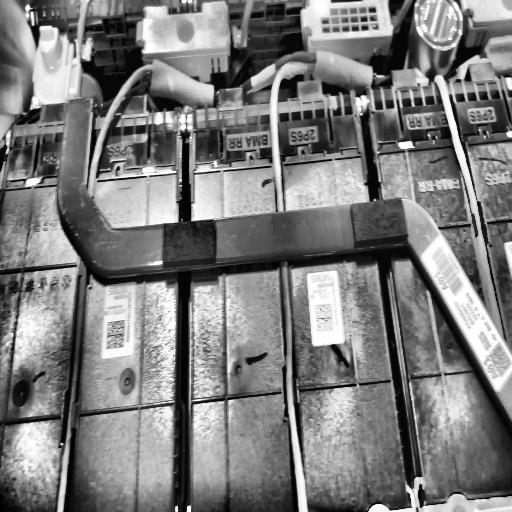busbar: (28, 26, 512, 432)
high_volt_cable: (55, 33, 512, 512)
